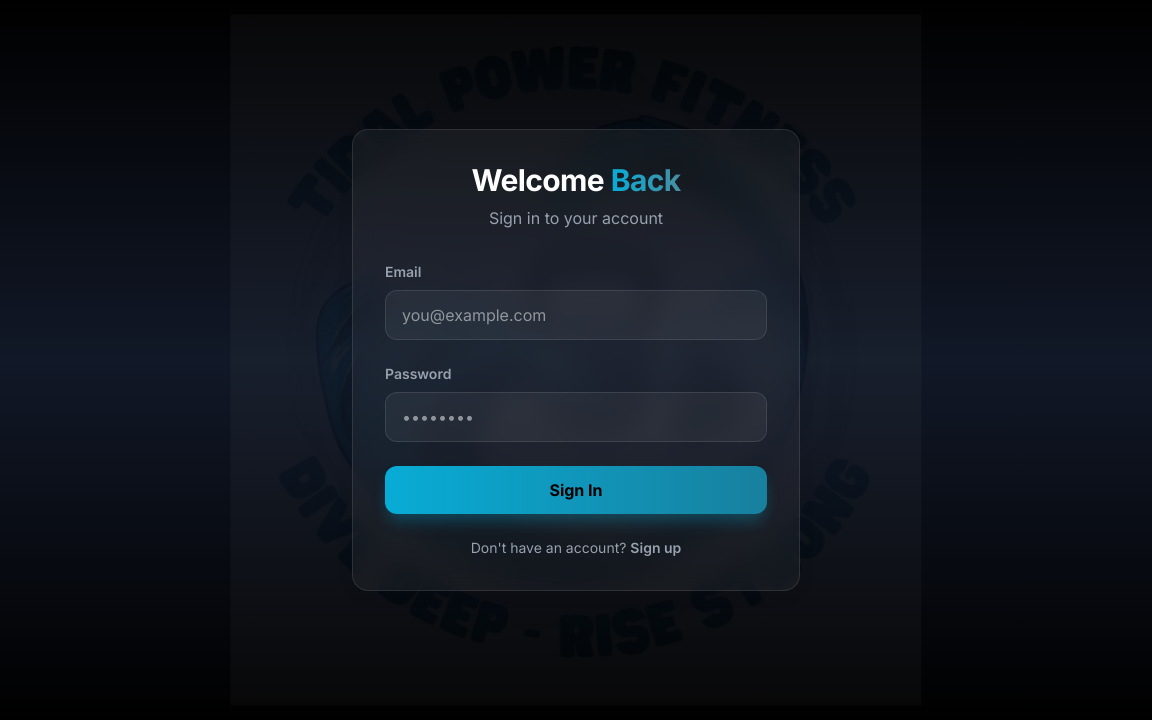
Test case: LoginPage › should display an error message on failed login
Type "test@example.com" into the field labelled "Email".
click(576, 315); type("test@example.com")  # box [385, 290, 767, 340]
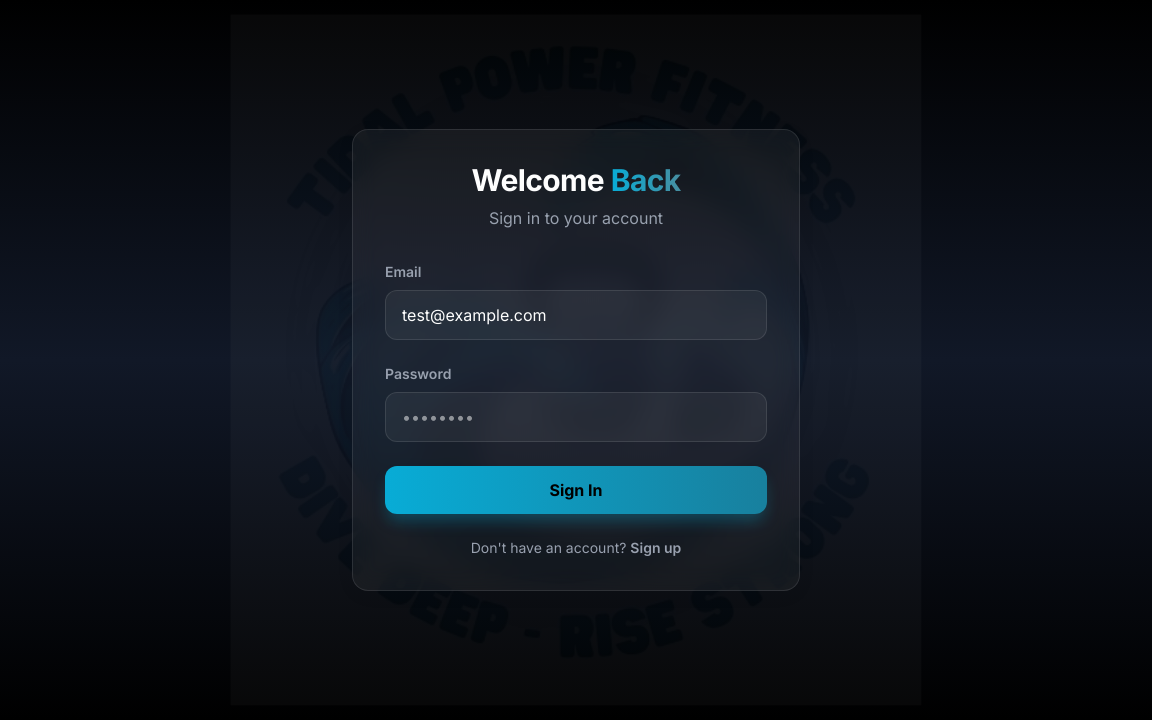
Type "password123" into the password field labelled "Password".
click(576, 417); type("password123")  # box [385, 392, 767, 442]
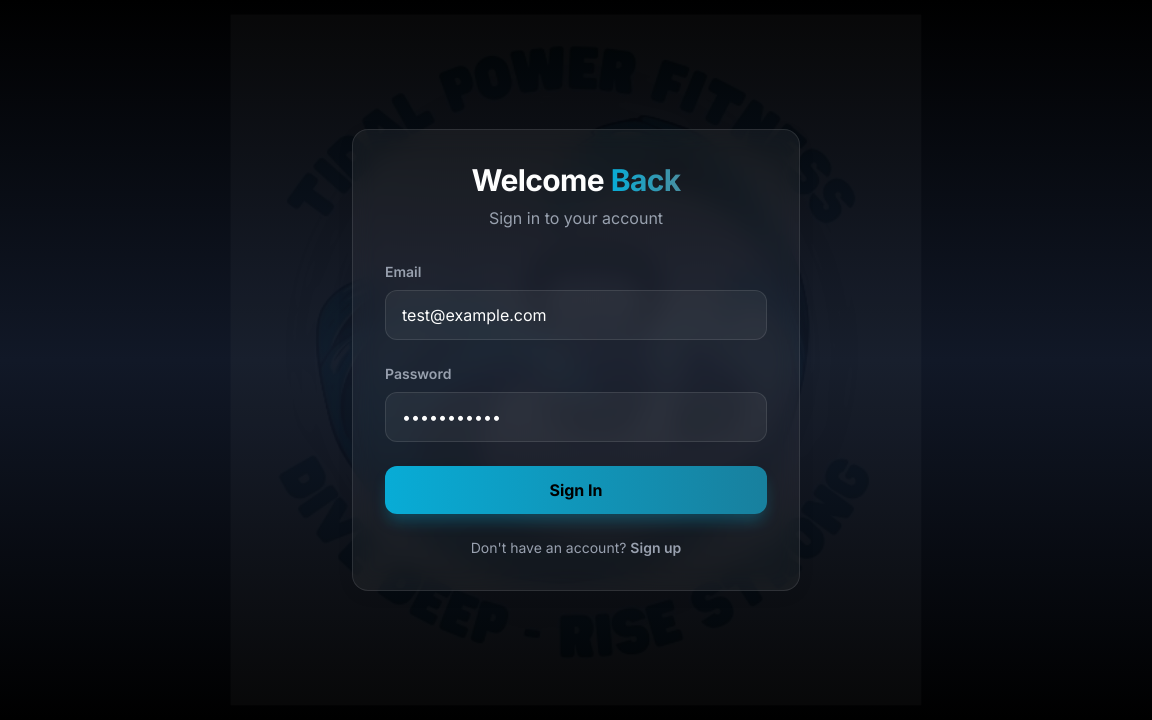
Click the button "Sign In".
click(576, 490)  # box [385, 466, 767, 514]
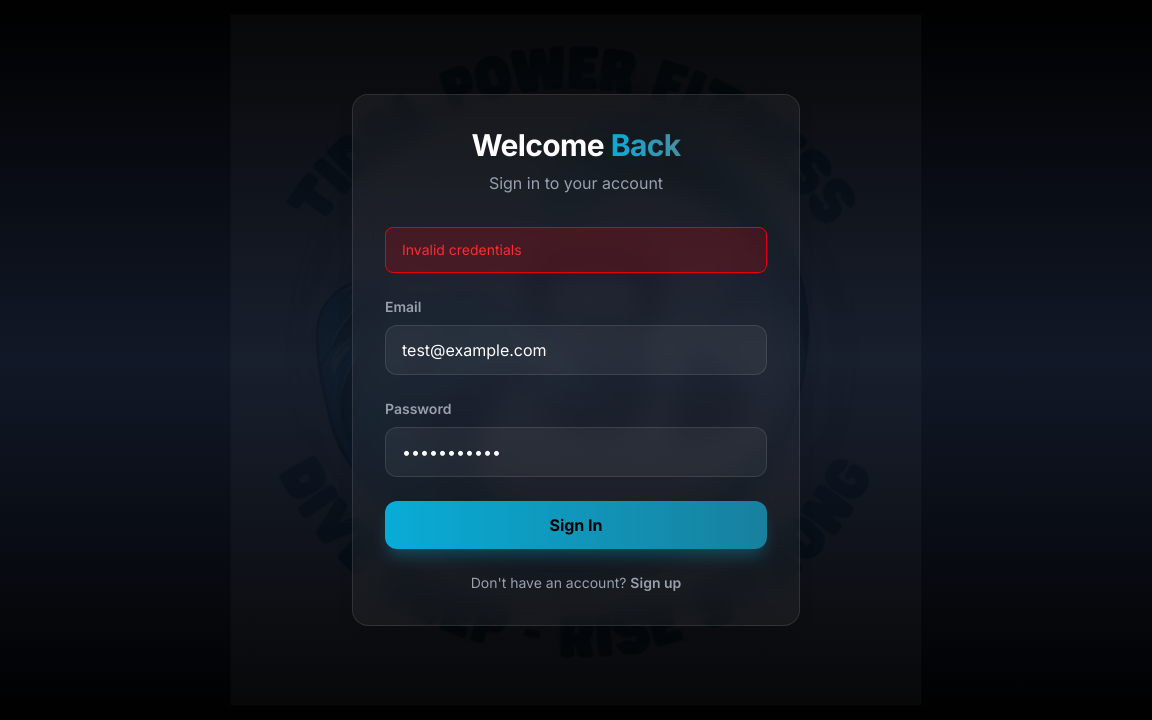
Check: the text "Invalid credentials" is shown, box [385, 227, 767, 273]
